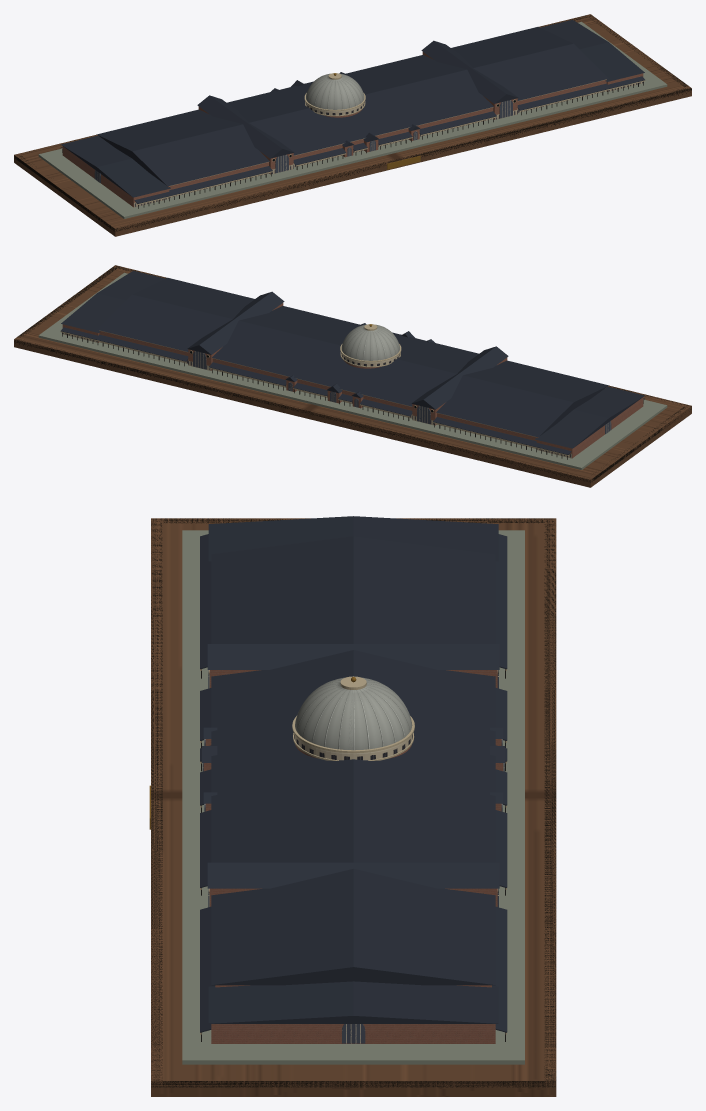
The model's file is committee-brick-model.glb.
3 views of the same model, one above another, from view 1: azimuth 30°, elevation 25°; view 2: azimuth 150°, elevation 25°; view 3: azimuth 270°, elevation 25° (orthographic). The views are drawn at different scales.
Parts seen in each view (by area): view 1: MainRoof, BaseBoard, SitePlinth, PavilionRoof, PavilionRoof.001, TrimS, Dome, MainWalls, GableBRoof, GableARoof, CorridorRoof, CorridorRoof.005 (+6 smaller); view 2: MainRoof, BaseBoard, SitePlinth, PavilionRoof, PavilionRoof.001, Dome, MainWalls, GableBRoof, GableARoof, TrimN, CorridorRoof.006, CorridorRoof.011 (+7 smaller); view 3: MainRoof, BaseBoard, SitePlinth, PavilionRoof.001, PavilionRoof, Dome, GableBRoof, GableARoof, PavilionWalls.001, TrimN, TrimS, TrimE (+6 smaller).
Part boxes in pixels (left/top/right/bottom): MainRoof: left=97, top=27, right=608, bottom=186; BaseBoard: left=14, top=14, right=691, bottom=236; SitePlinth: left=38, top=21, right=667, bottom=218; PavilionRoof: left=61, top=135, right=170, bottom=197; PavilionRoof.001: left=541, top=19, right=644, bottom=81; TrimS: left=112, top=87, right=691, bottom=231; Dome: left=306, top=73, right=364, bottom=109; MainWalls: left=99, top=79, right=606, bottom=189; GableBRoof: left=421, top=40, right=518, bottom=103; GableARoof: left=197, top=95, right=294, bottom=158; CorridorRoof: left=134, top=166, right=272, bottom=203; CorridorRoof.005: left=517, top=76, right=644, bottom=110; MainRoof: left=97, top=278, right=608, bottom=437; BaseBoard: left=14, top=265, right=691, bottom=487; SitePlinth: left=38, top=272, right=667, bottom=469; PavilionRoof: left=535, top=386, right=644, bottom=448; PavilionRoof.001: left=61, top=270, right=164, bottom=332; Dome: left=341, top=324, right=399, bottom=360; MainWalls: left=99, top=330, right=606, bottom=440; GableBRoof: left=187, top=291, right=284, bottom=354; GableARoof: left=411, top=346, right=508, bottom=409; TrimN: left=14, top=339, right=593, bottom=482; CorridorRoof.006: left=433, top=417, right=571, bottom=454; CorridorRoof.011: left=61, top=327, right=188, bottom=361; MainRoof: left=211, top=536, right=495, bottom=985; BaseBoard: left=151, top=518, right=556, bottom=1096; SitePlinth: left=182, top=530, right=524, bottom=1064; PavilionRoof.001: left=208, top=981, right=498, bottom=1023; PavilionRoof: left=208, top=516, right=498, bottom=561; Dome: left=295, top=677, right=412, bottom=750; GableBRoof: left=207, top=862, right=499, bottom=888; GableARoof: left=207, top=644, right=499, bottom=669; PavilionWalls.001: left=211, top=1024, right=495, bottom=1043; TrimN: left=544, top=518, right=556, bottom=1087; TrimS: left=151, top=518, right=162, bottom=1087; TrimE: left=162, top=1081, right=544, bottom=1087.
Size of the model in its own units: 1.38 by 0.1383 by 0.4212.
Materials: 13 (6 with a texture image).
